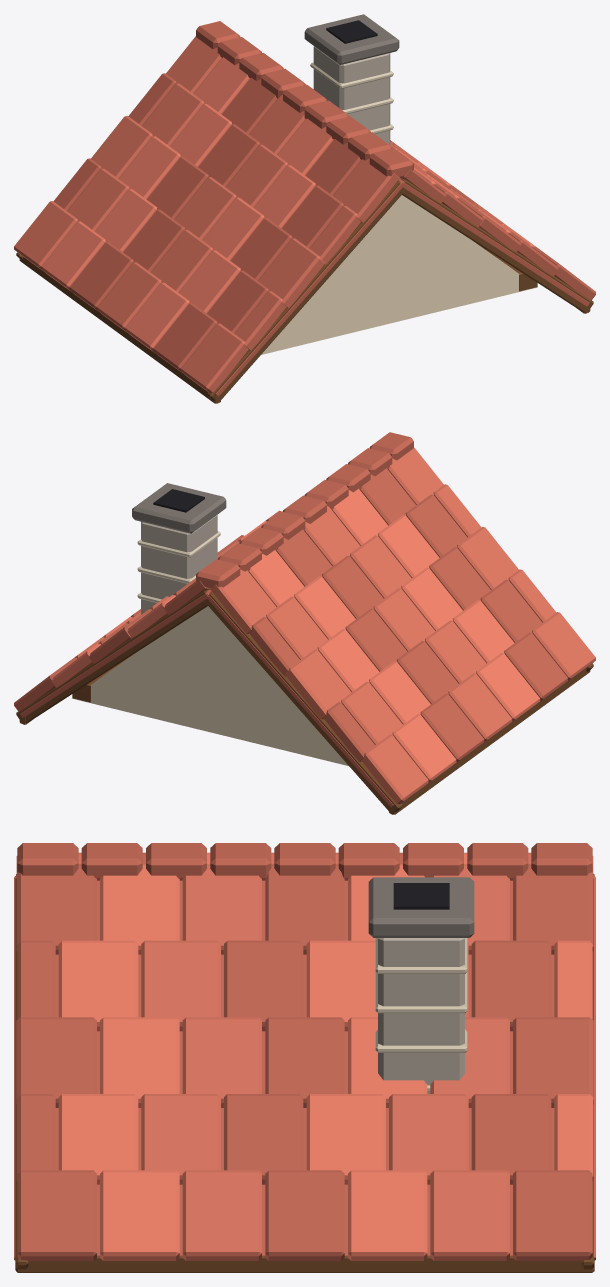
The model's file is cottage_roof.glb.
3 renders of one model, top to bottom at view 1: azimuth 30°, elevation 25°; view 2: azimuth 150°, elevation 25°; view 3: azimuth 270°, elevation 25°, orthographic. The views are drawn at different scales.
Parts seen in each view (by area): view 1: cottage_roof; view 2: cottage_roof; view 3: cottage_roof.
Part boxes in pixels (x1=…): cottage_roof: x1=14, y1=14, x2=595, y2=403; cottage_roof: x1=14, y1=432, x2=595, y2=814; cottage_roof: x1=14, y1=843, x2=595, y2=1272.
Bounding box in the file's own units: 4.29 × 2.17 × 3.74.
